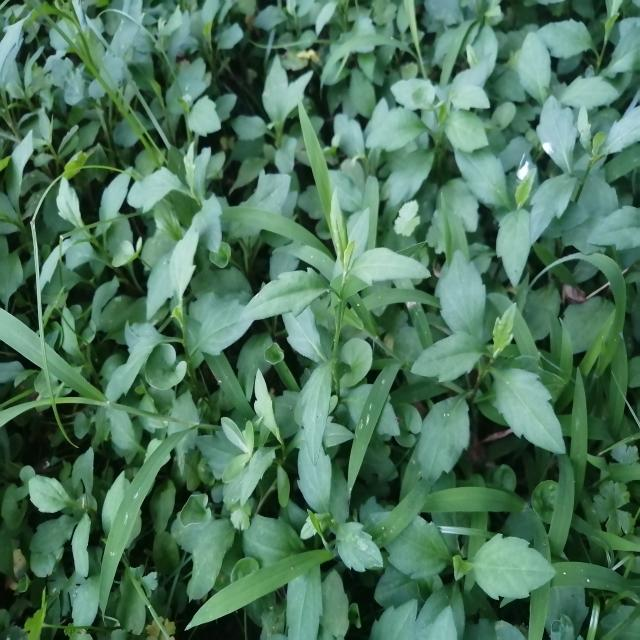Indian aster: (255, 202, 405, 470), (418, 243, 580, 467)
